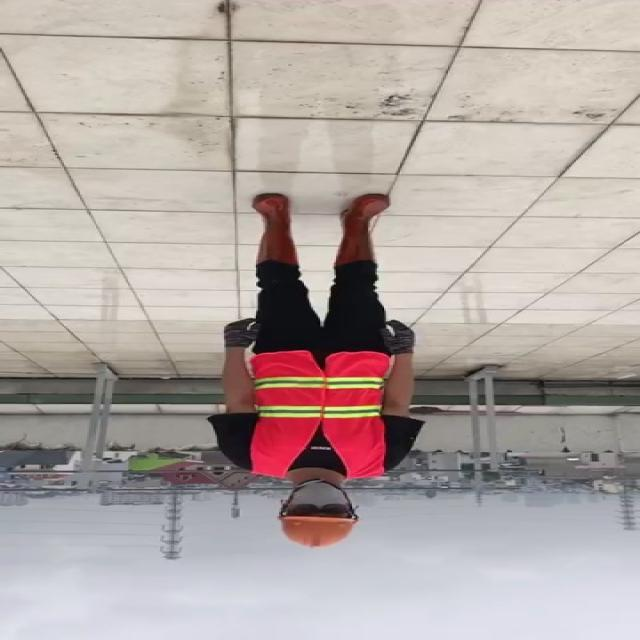gloves: (215, 317, 263, 349), (382, 320, 416, 354)
goggles: (284, 501, 352, 519)
